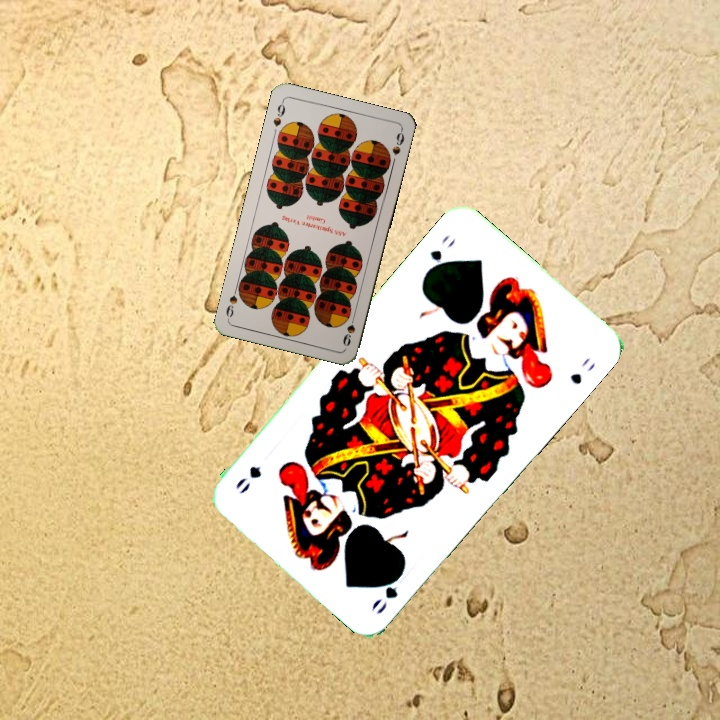GO: (367, 564, 407, 617), (421, 231, 459, 277)
S9: (339, 309, 358, 349), (269, 97, 288, 129)
